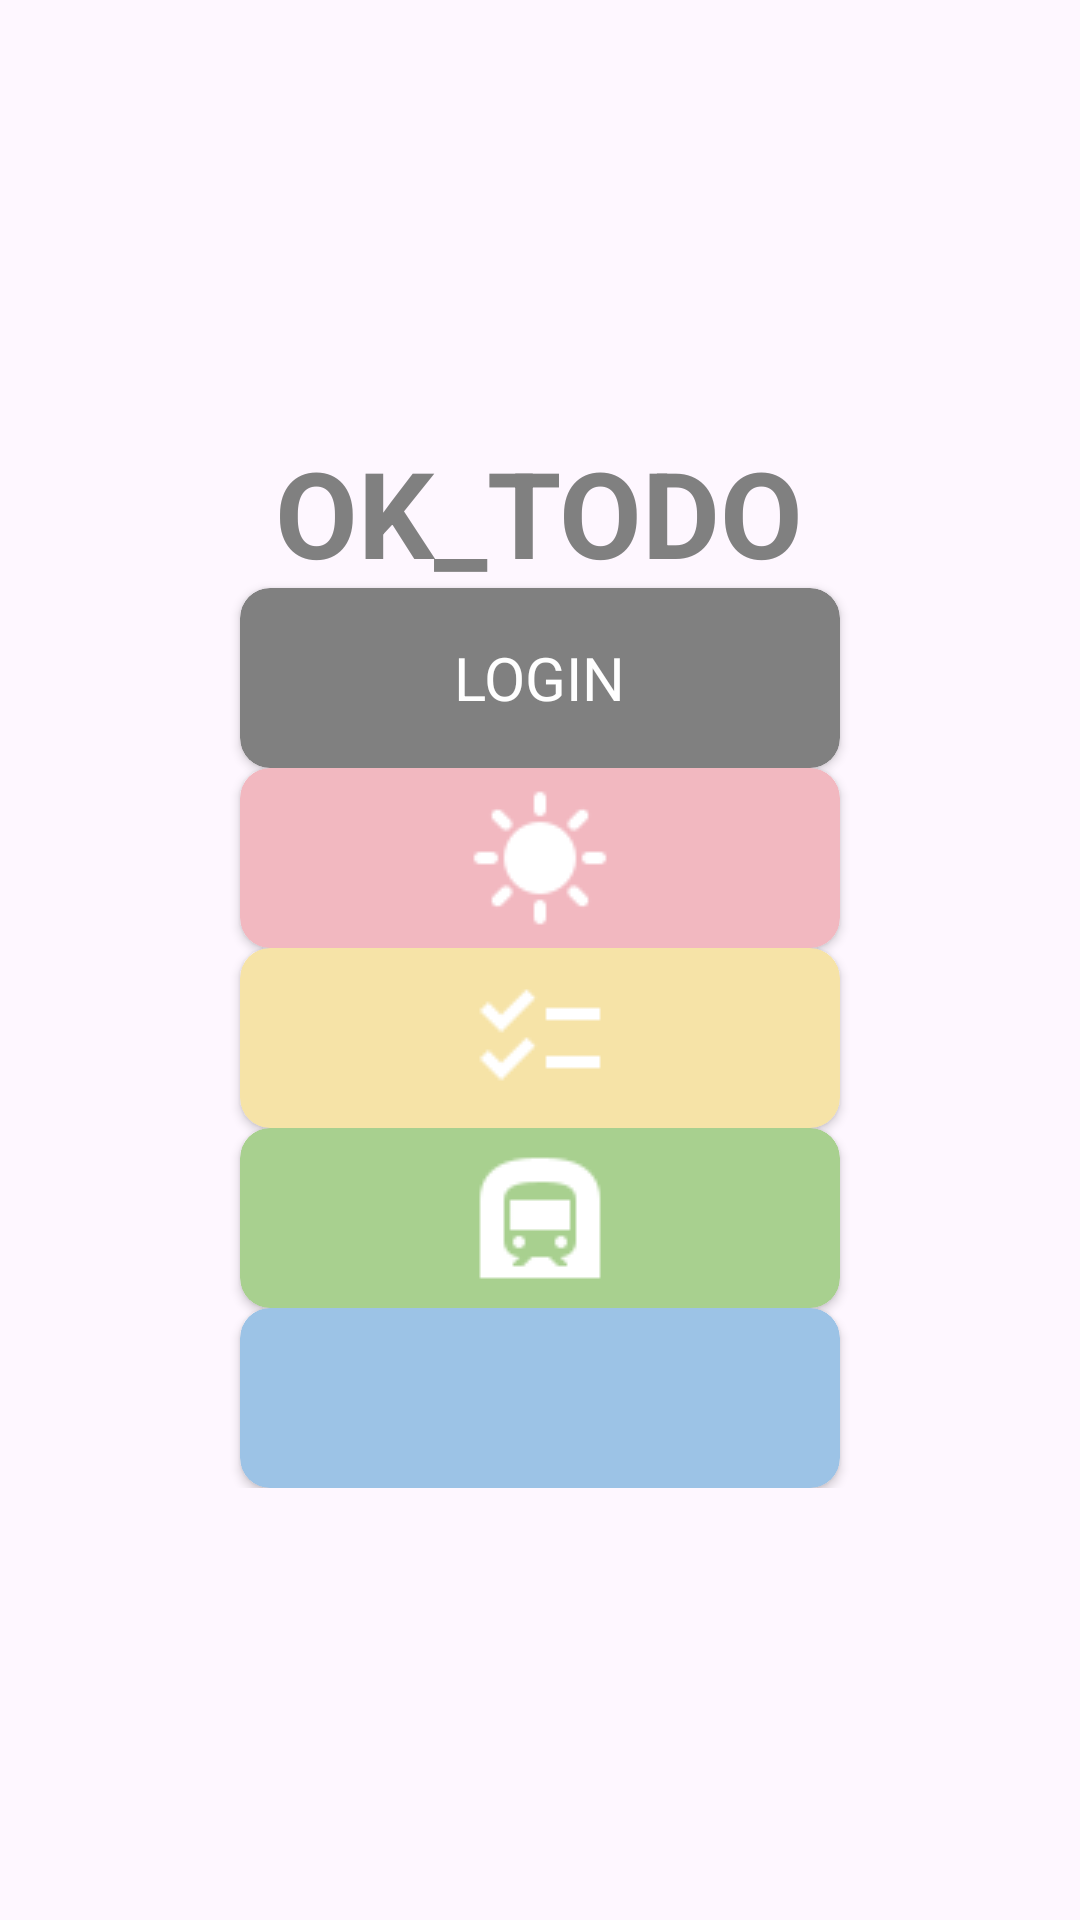

Icons on this 1080x1920 Android screen, each with the point to tap as point (x, y):
sub: point (540, 1218)
sunny: point (540, 858)
todo: point (540, 1034)
